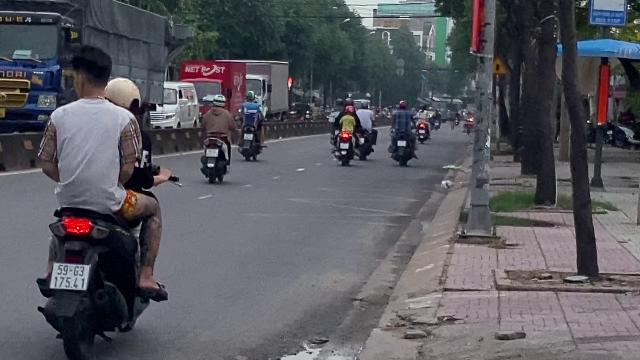helmet: (105, 74, 142, 109)
licenseplate: (50, 262, 88, 290)
motorcyclist: (32, 44, 175, 356)
nohelmet: (69, 44, 113, 100)
